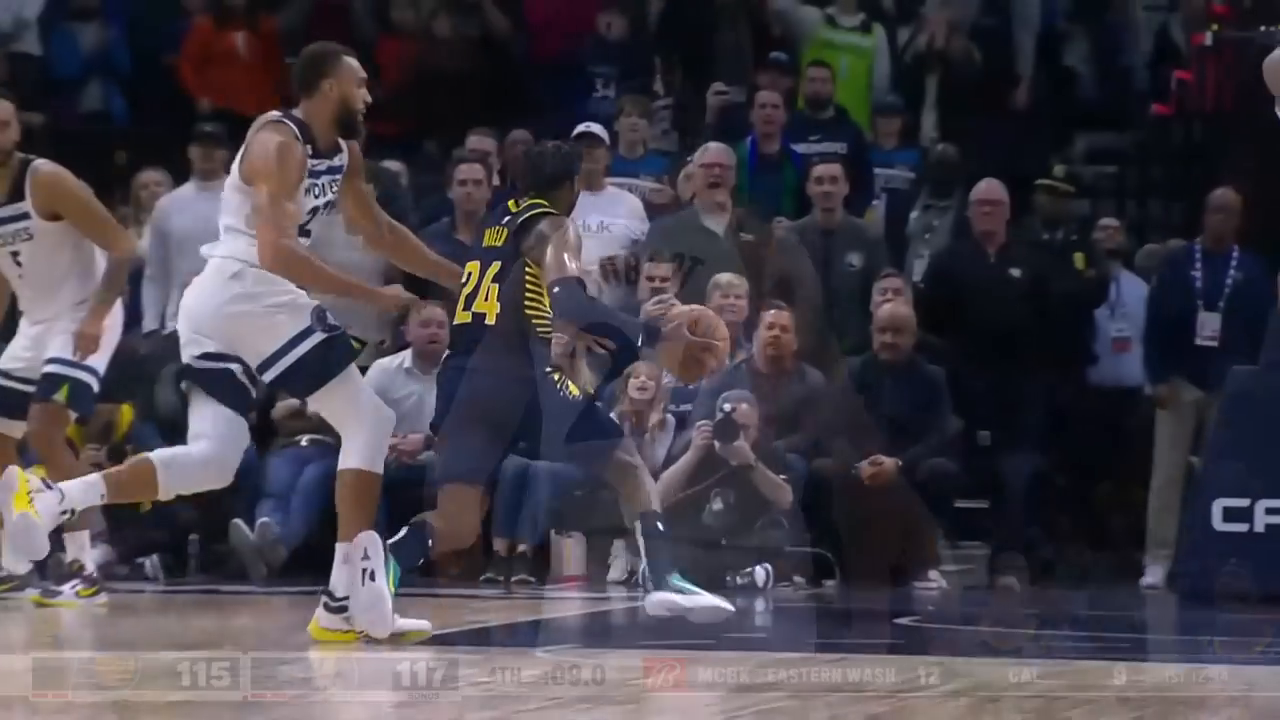ball: (655, 299, 737, 390)
